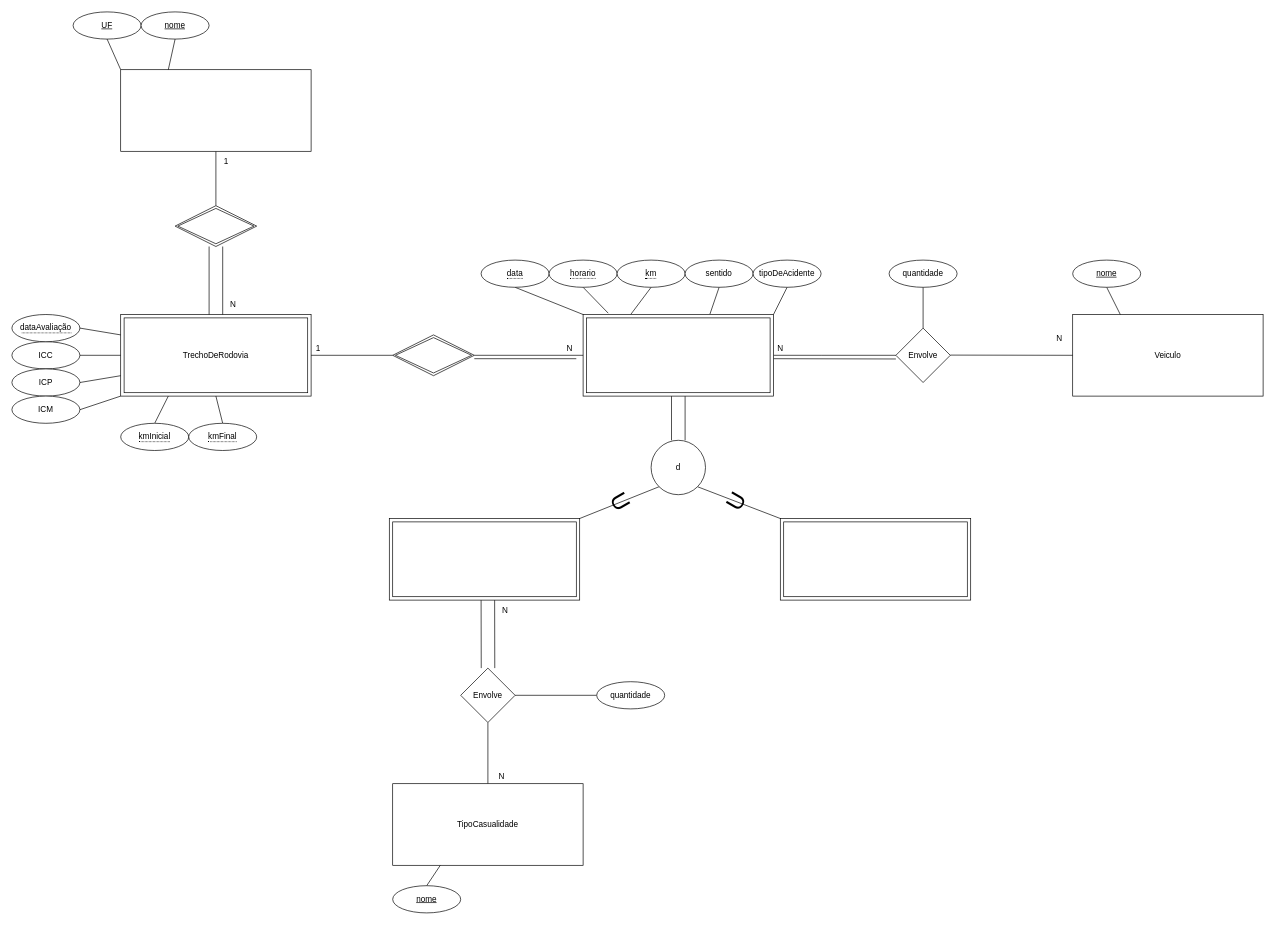
Some shapes in this 1275 by 925 pixel diagram are drawn without their labels. Here are the shapes that lost their labels. From the top down, the centre of each, then its label:
At [215,110]: "Rodovia".
At [215,226]: "Possui".
At [433,355]: "Acontece em".
At [678,355]: "Acidente".
At [484,559]: "AcidentesComCasulalidades".
At [875,559]: "AcidentesSemCasualidades".
